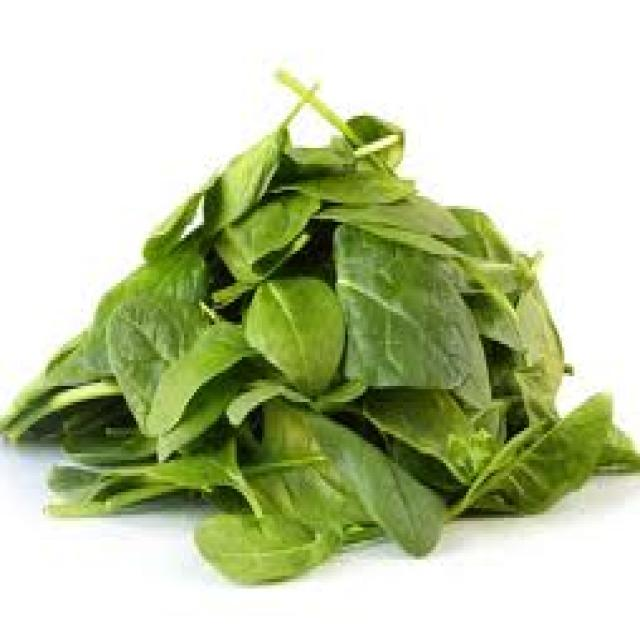greens: (0, 41, 637, 585)
